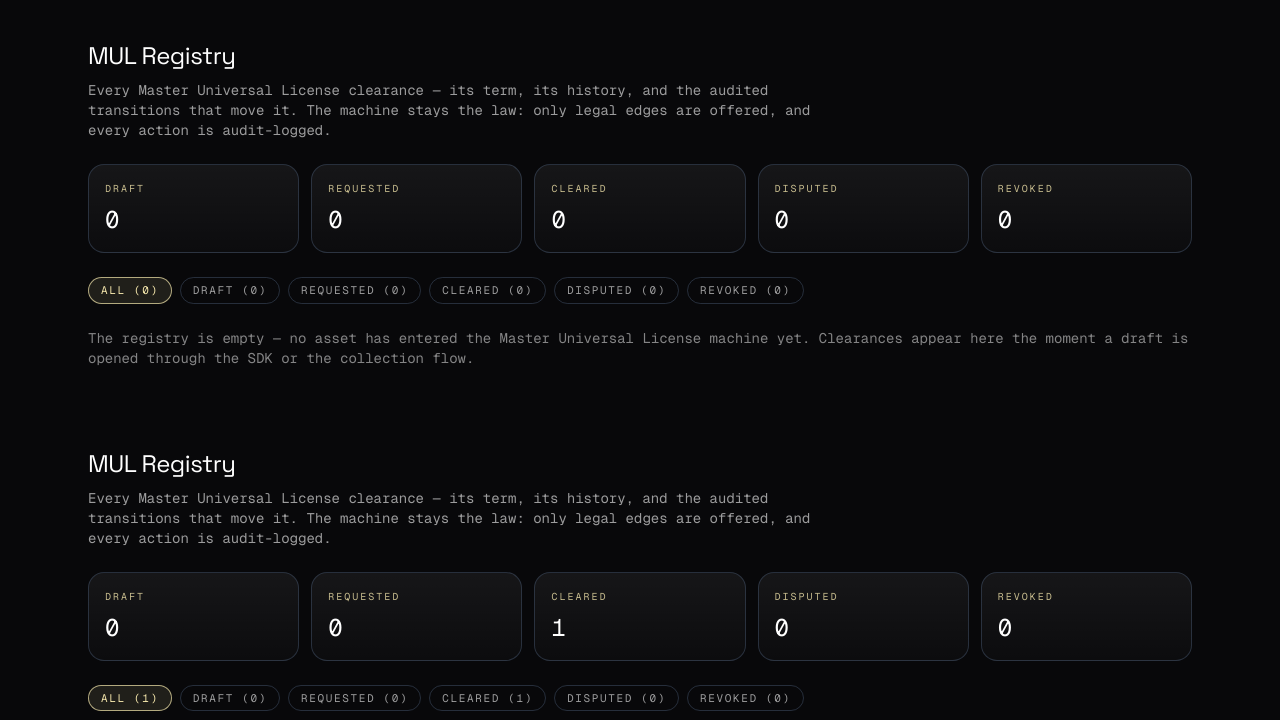
Test: MulRegistry › says honestly when the registry is empty vs when a filter has no matches
Expected: the text with test id "mul-table-empty" shows "registry is empty", [88,328,1188,366]
Click the 2nd button "disputed (0)".
click(616, 698)  # box [554,684,679,711]
(page scrolled)
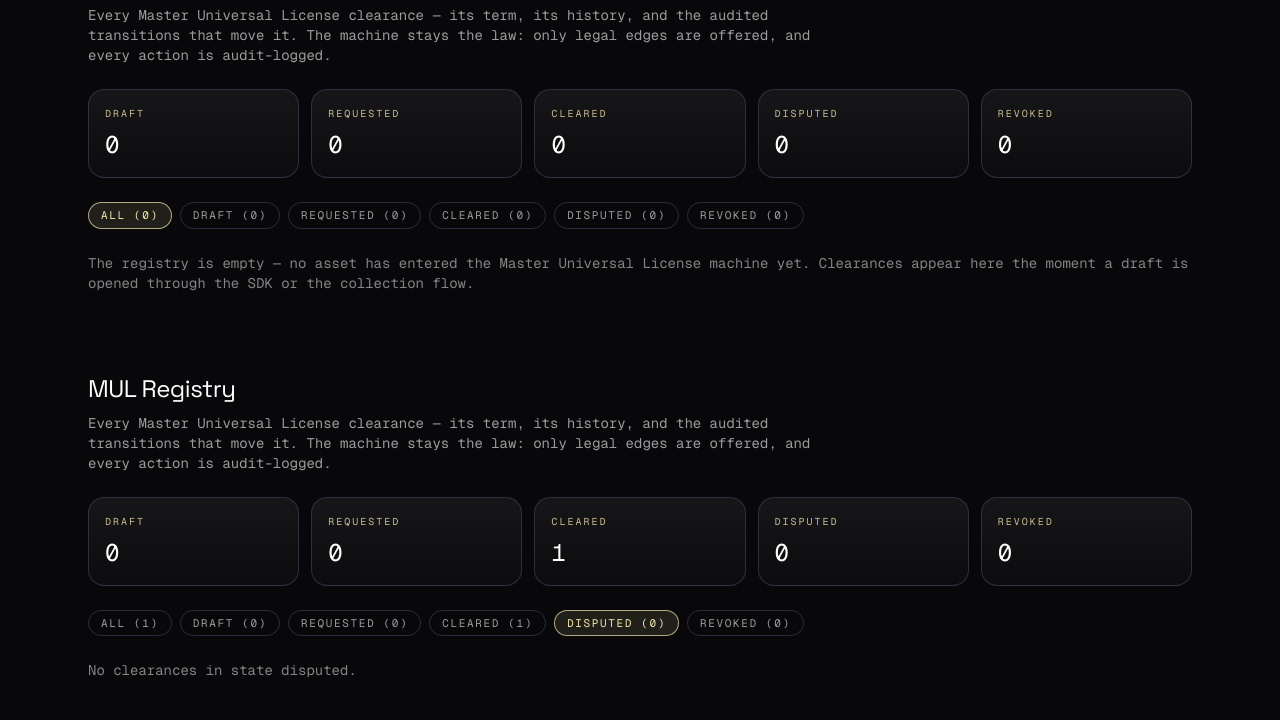
Result: the text with test id "mul-table-empty" shows "No clearances in state disputed" at [88,661,357,679]
